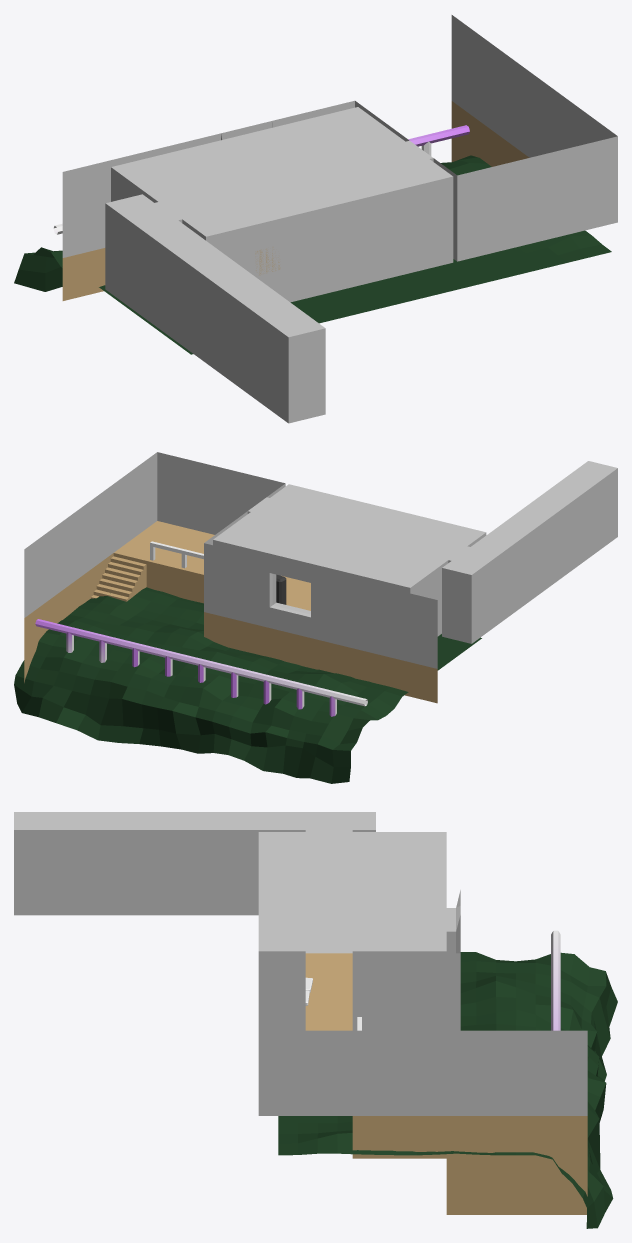
The model's file is apartment.fbx.
The picture shows the model from 3 angles, top to bottom: view 1: azimuth 30°, elevation 25°; view 2: azimuth 150°, elevation 25°; view 3: azimuth 270°, elevation 25°; orthographic projection. The views are drawn at different scales.
Visible parts, largest first — view 1: Apartment, Cliff, Guardrail; view 2: Apartment, Cliff, Guardrail, Railing; view 3: Apartment, Cliff, Guardrail.
Part boxes in pixels (x1=…): Apartment: x1=62, y1=15, x2=617, y2=423; Cliff: x1=14, y1=155, x2=611, y2=354; Guardrail: x1=53, y1=125, x2=469, y2=234; Apartment: x1=24, y1=452, x2=617, y2=703; Cliff: x1=14, y1=587, x2=481, y2=783; Guardrail: x1=35, y1=619, x2=367, y2=716; Railing: x1=150, y1=541, x2=203, y2=568; Apartment: x1=14, y1=812, x2=587, y2=1214; Cliff: x1=278, y1=952, x2=617, y2=1228; Guardrail: x1=551, y1=930, x2=560, y2=1030.
Bounding box in the file's own units: 11.33 × 4.84 × 12.84.
